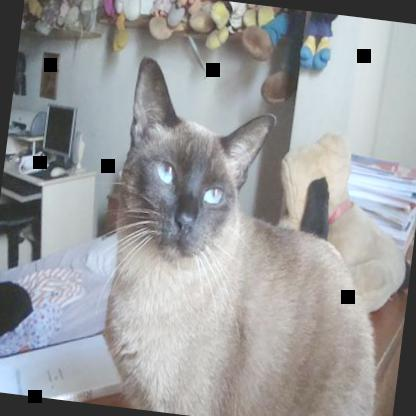cat: (90, 55, 415, 415)
